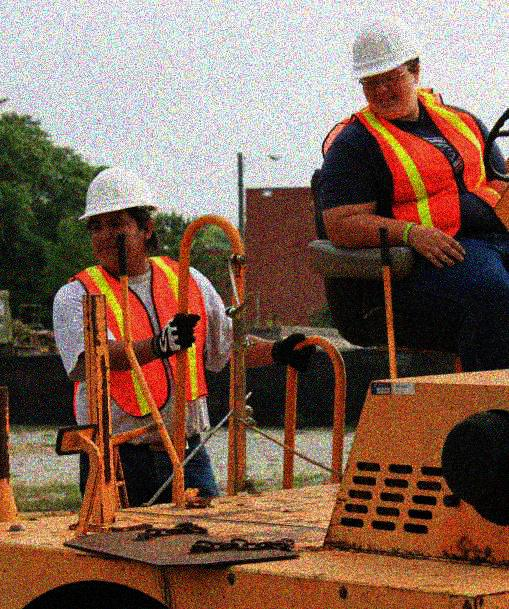helmet: (348, 12, 425, 123), (78, 168, 160, 263)
